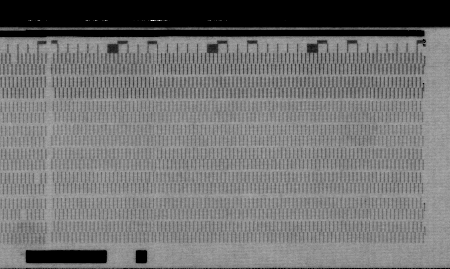Broken hole: (32, 172, 44, 186), (18, 209, 30, 222)
Oblique printing: (418, 197, 430, 213), (8, 55, 21, 67), (420, 219, 431, 233), (418, 76, 428, 91), (419, 51, 429, 66)
